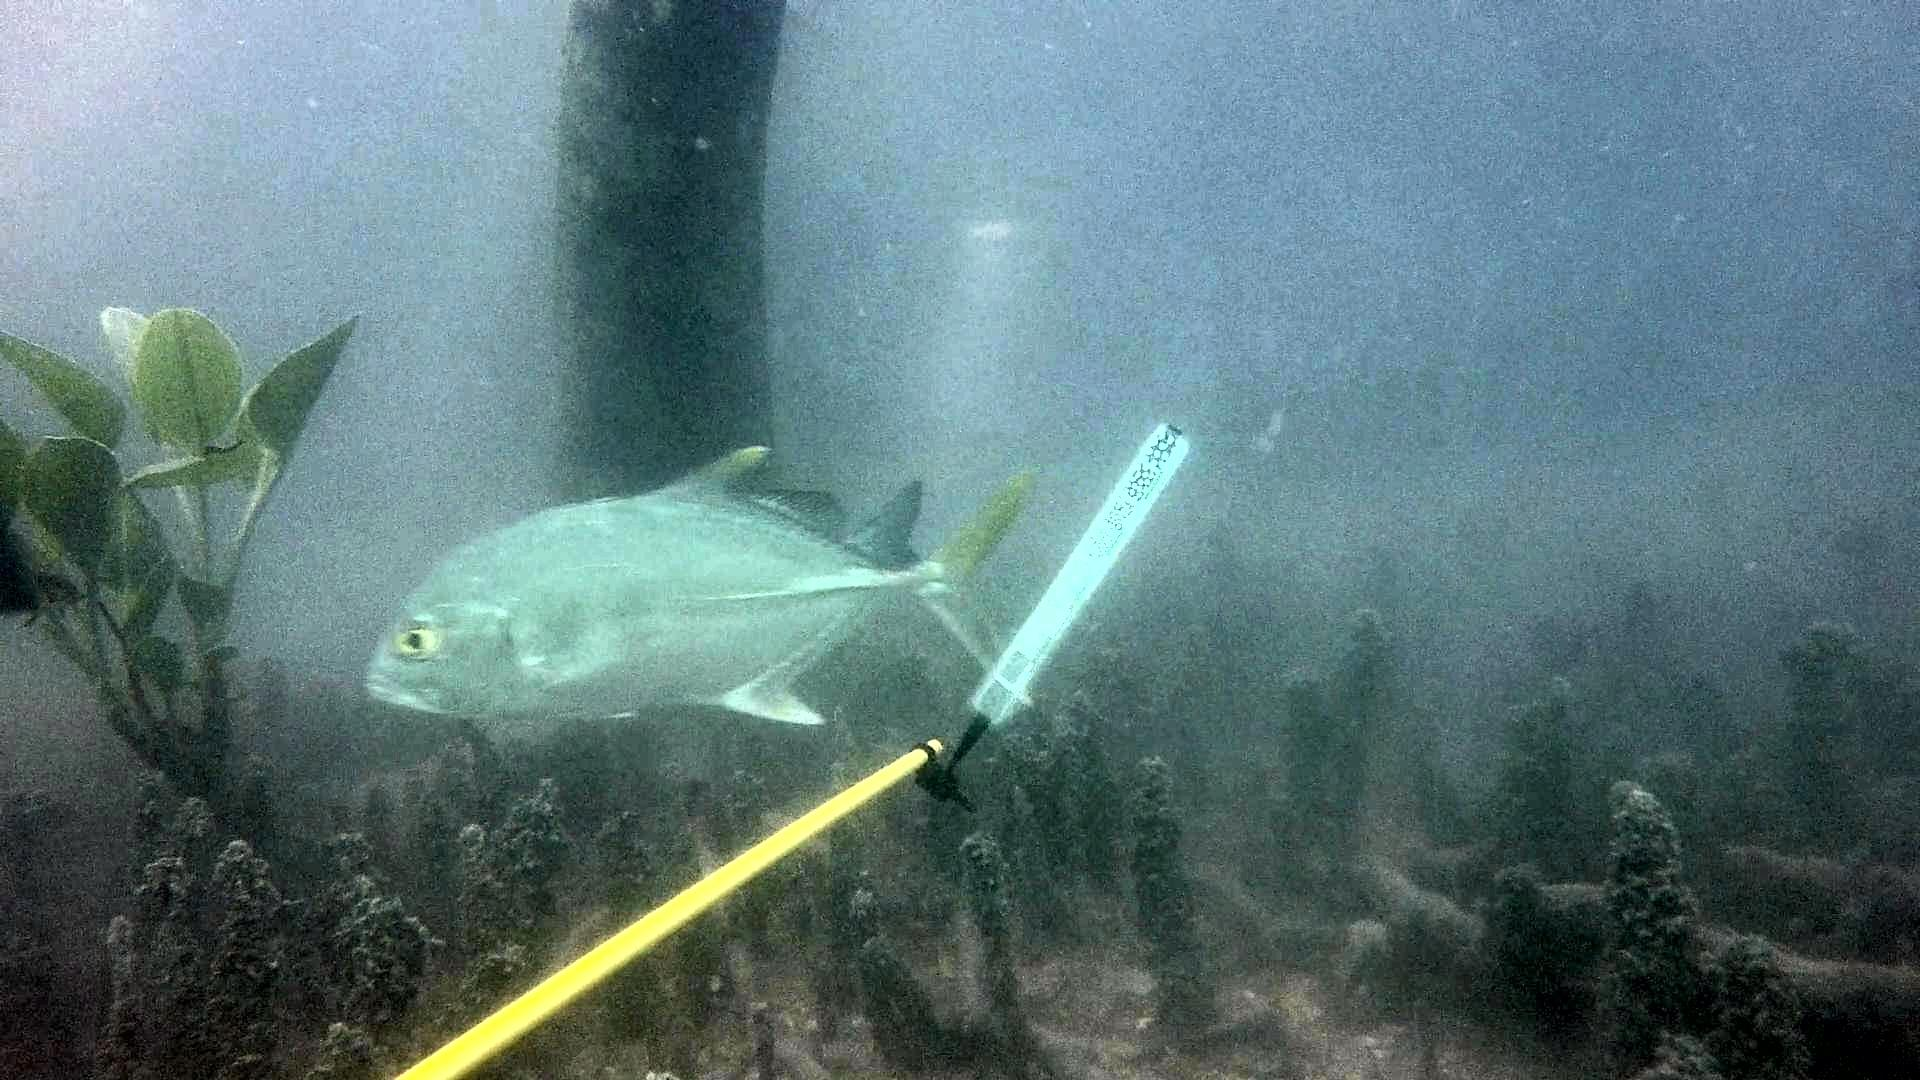caranx: (351, 426, 1050, 744)
